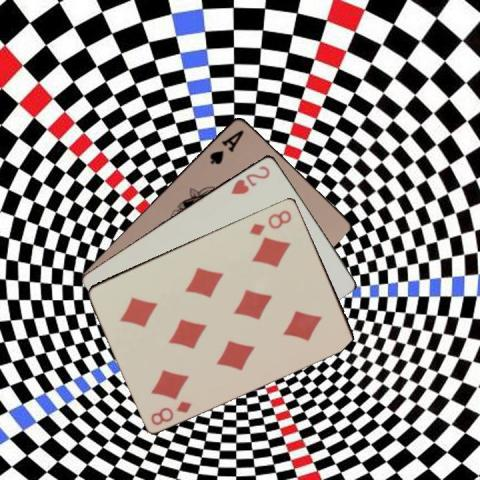2h: (228, 162, 271, 195)
8d: (246, 206, 293, 236), (148, 397, 194, 427)
As: (206, 126, 245, 166)
